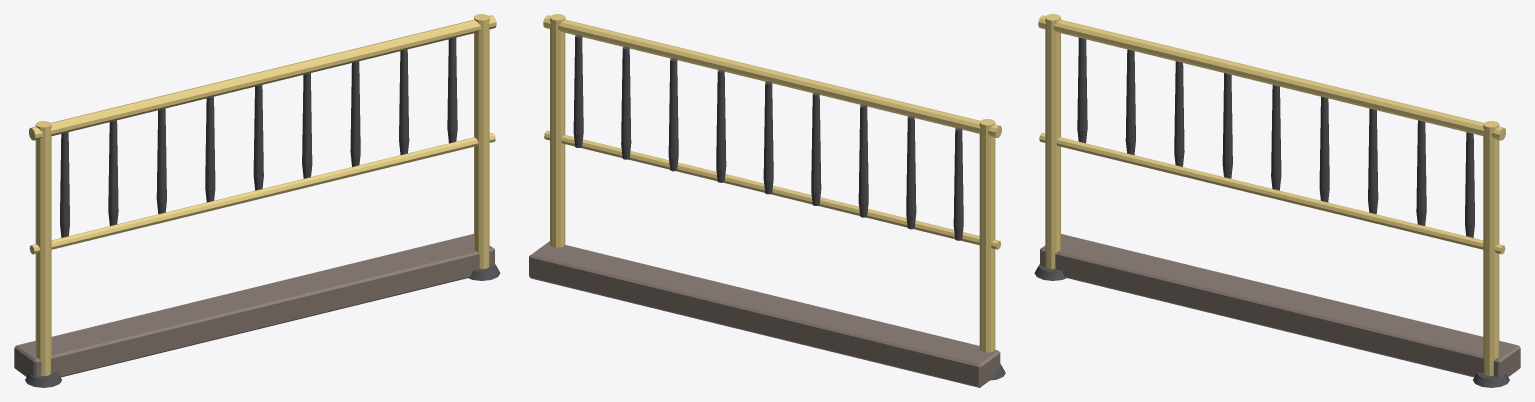
The model's file is theatre-stage-and-backstage-orchestra-pit-rail-45132244.glb.
3 views of the same model, side by side, from view 1: azimuth 30°, elevation 25°; view 2: azimuth 150°, elevation 25°; view 3: azimuth 330°, elevation 25° (orthographic).
Visible parts, largest first — view 1: orchestra-pit-rail; view 2: orchestra-pit-rail; view 3: orchestra-pit-rail.
Boxes of the visible parts, <box> form: orchestra-pit-rail: <box>14,14,500,387</box>; orchestra-pit-rail: <box>529,14,1005,387</box>; orchestra-pit-rail: <box>1034,14,1520,387</box>.
Size of the model in its own units: 2.04 by 1.06 by 0.2099.
